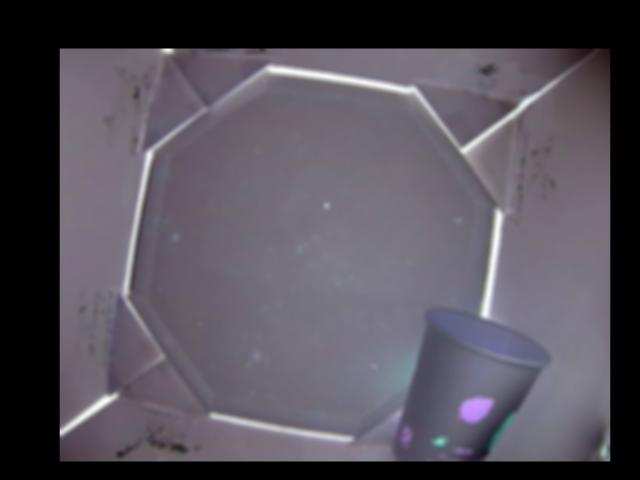Cup: (392, 308, 552, 461)
